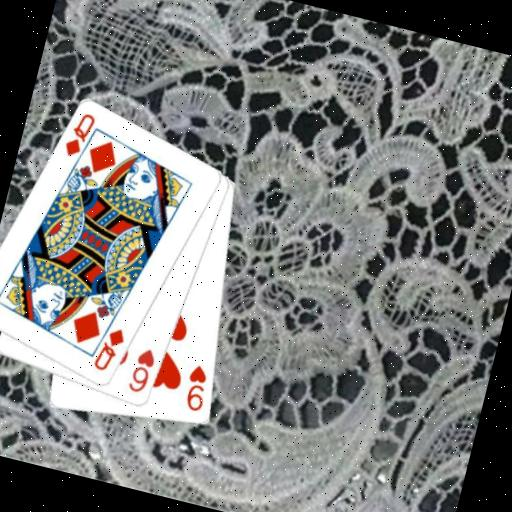6H: (125, 344, 160, 398)
9H: (179, 361, 215, 416)
QD: (59, 107, 99, 163), (89, 322, 129, 377)
